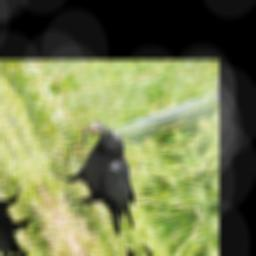Crow: (36, 116, 167, 244)
